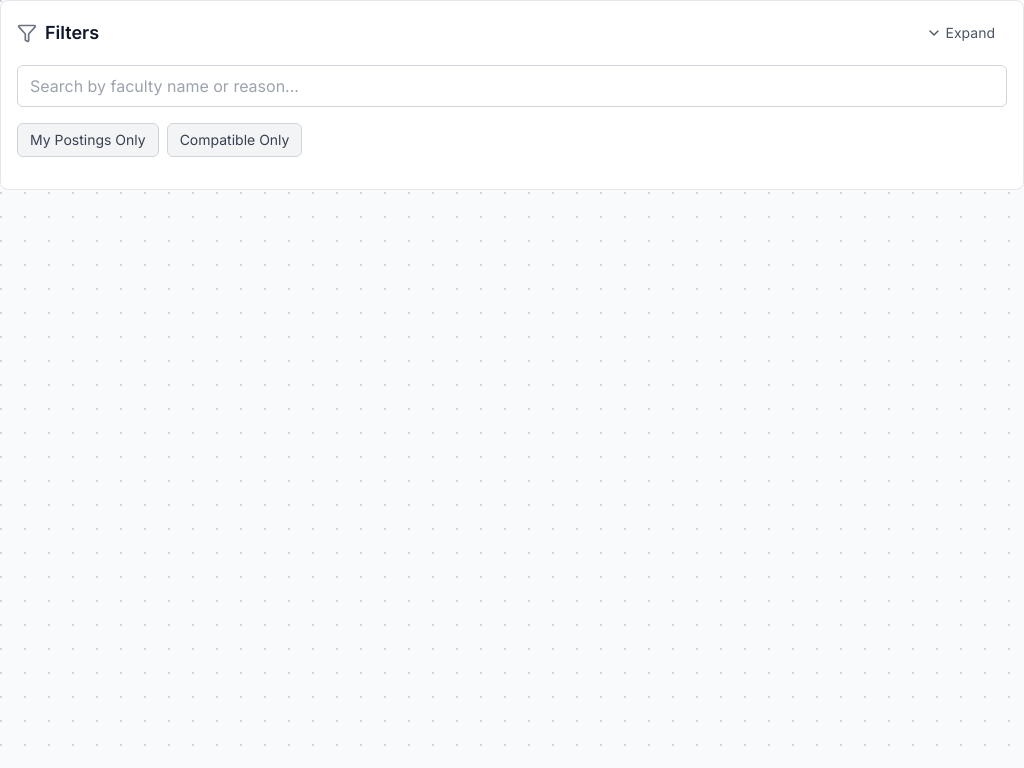
Scenario: SwapFilters › Expand/Collapse › should show expanded filters when Expand button is clicked
Click the button "Expand" at (960, 33), box [914,17,1007,49]
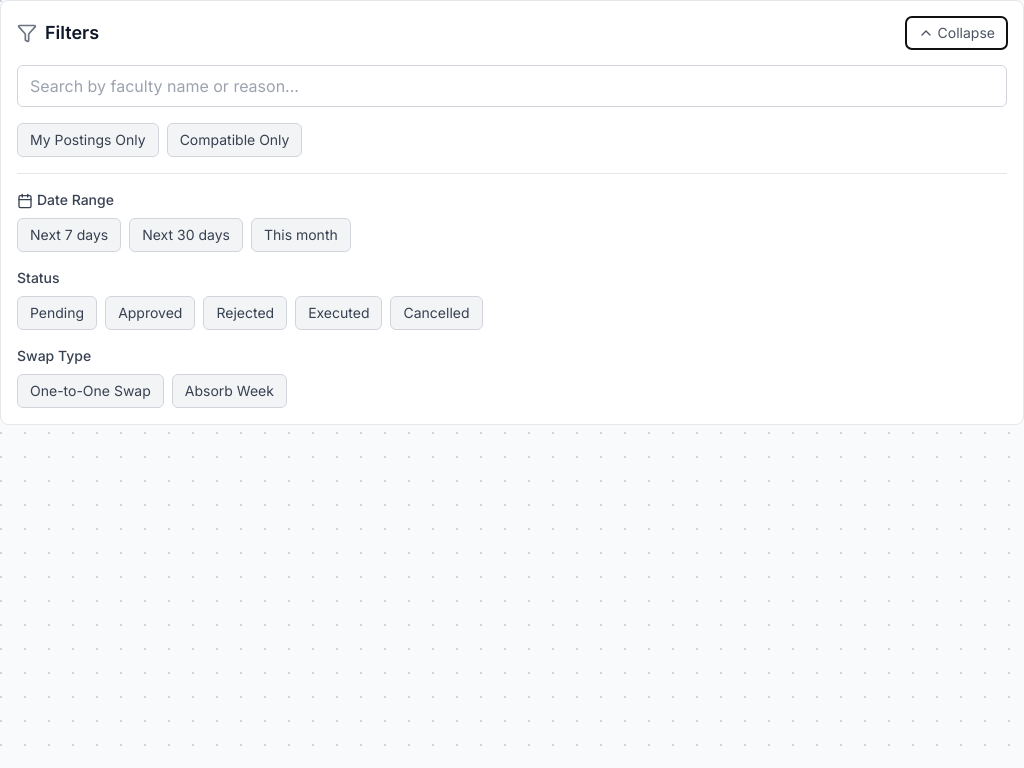
Check: the text "Date Range" is shown, box [17,191,114,209]
Check: the text "Status" is shown, box [17,269,60,286]
Check: the text "Swap Type" is shown, box [17,347,91,364]
